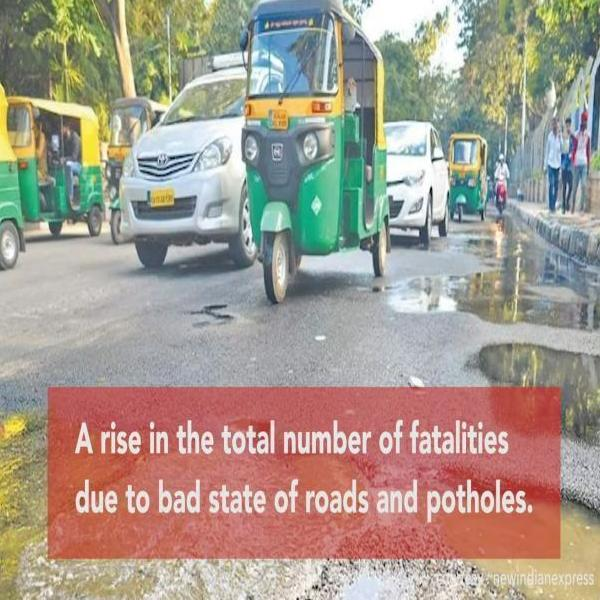pothole: (0, 405, 370, 600), (426, 456, 600, 600)
